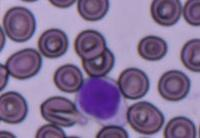L: (74, 74, 128, 125)
